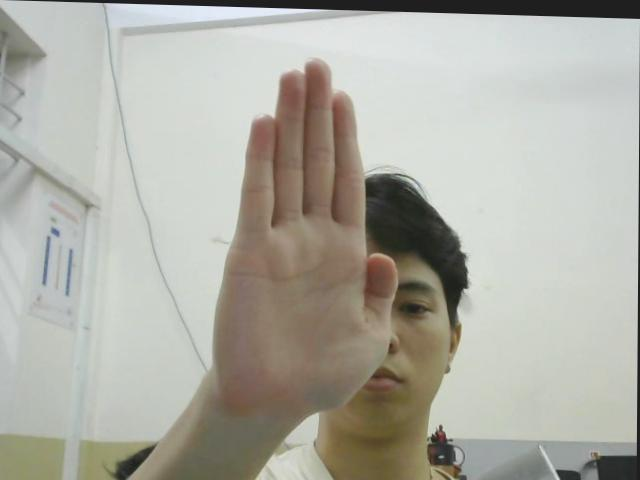B: (211, 51, 399, 417)
